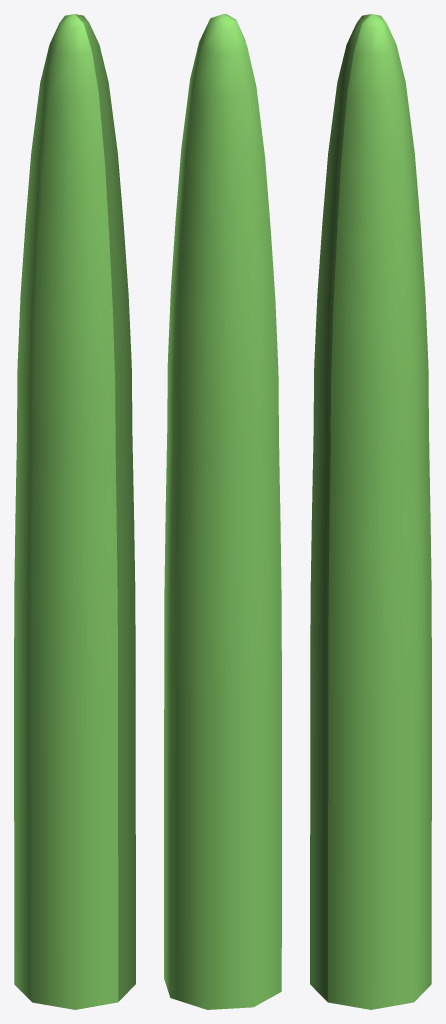
File: Tentacle_5_ZUp.fbx
3 views of the same model, side by side, from view 1: azimuth 90°, elevation 25°; view 2: azimuth 210°, elevation 25°; view 3: azimuth 270°, elevation 25° (orthographic).
Visible parts, largest first — view 1: Tentacle.005, Tentacle.004; view 2: Tentacle.005, Tentacle.004; view 3: Tentacle.005, Tentacle.004.
Part boxes in pixels (bbox=[...]): Tentacle.005: bbox=[14, 14, 135, 697]; Tentacle.004: bbox=[14, 672, 135, 1009]; Tentacle.005: bbox=[164, 14, 281, 696]; Tentacle.004: bbox=[164, 667, 281, 1009]; Tentacle.005: bbox=[310, 14, 431, 697]; Tentacle.004: bbox=[310, 672, 431, 1009].
Bounding box in the file's own units: 0.5529 × 0.5519 × 4.86.
